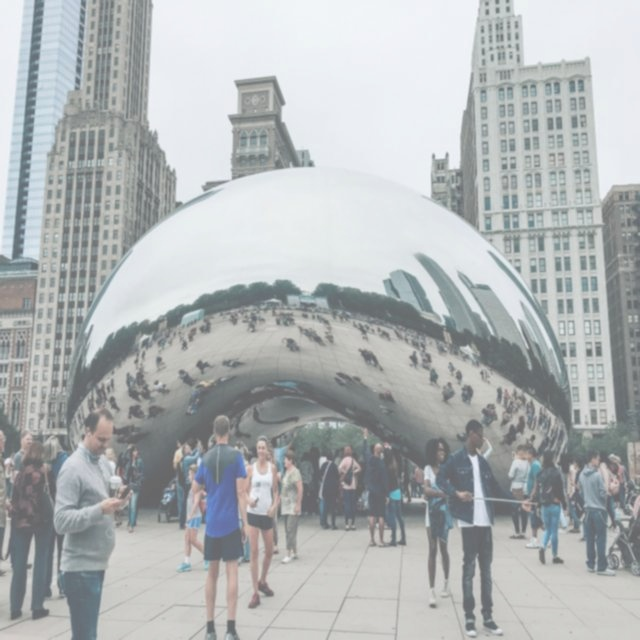pessoa: (56, 276, 562, 479), (434, 416, 540, 638), (51, 403, 137, 640), (190, 412, 250, 640), (8, 440, 58, 620), (564, 414, 626, 528), (270, 479, 426, 521), (243, 435, 280, 609), (421, 437, 454, 608), (577, 447, 618, 577), (41, 434, 70, 602), (534, 449, 568, 565), (361, 427, 392, 548), (176, 462, 210, 572), (10, 428, 34, 570), (504, 480, 562, 538), (276, 448, 304, 564), (506, 441, 532, 542), (270, 428, 298, 520), (523, 444, 546, 551), (120, 442, 146, 534), (383, 447, 406, 548), (177, 438, 202, 530), (338, 444, 361, 533), (597, 448, 620, 534), (318, 448, 341, 533), (265, 444, 282, 554), (298, 449, 318, 518), (554, 452, 570, 536), (565, 453, 581, 534), (382, 446, 397, 530), (173, 438, 185, 524), (0, 430, 7, 577), (113, 452, 125, 528), (570, 458, 584, 520), (609, 453, 620, 512), (616, 457, 630, 502), (401, 458, 412, 504), (614, 456, 623, 512), (236, 446, 251, 476), (475, 436, 493, 461), (104, 448, 118, 476), (413, 466, 424, 498), (162, 482, 176, 506), (334, 448, 345, 476), (318, 445, 329, 470), (196, 444, 207, 468), (233, 440, 246, 450), (626, 516, 634, 530)
